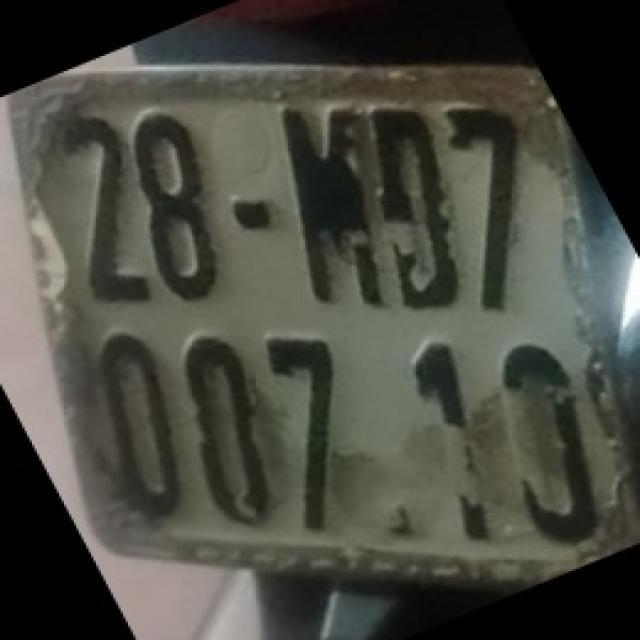0: (69, 328, 187, 520), (184, 332, 288, 530)
2: (58, 110, 132, 312)
7: (267, 328, 348, 538), (450, 99, 522, 315)
8: (130, 105, 229, 304)
M: (276, 97, 382, 319)
